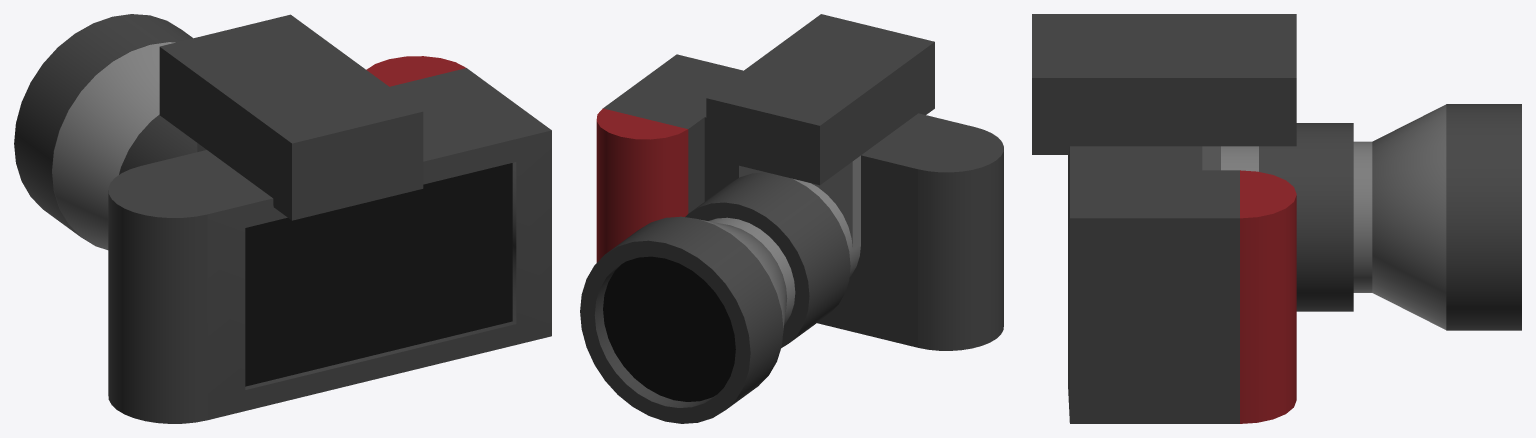
Rendered from DecryptidCamera.fbx.
The picture shows the model from 3 angles, left to right: view 1: azimuth 30°, elevation 25°; view 2: azimuth 150°, elevation 25°; view 3: azimuth 270°, elevation 25°; orthographic projection. The views are drawn at different scales.
Visible parts, largest first — view 1: LowPolyCamera; view 2: LowPolyCamera; view 3: LowPolyCamera.
Boxes of the visible parts, left/top/right/bottom form: LowPolyCamera: left=14, top=14, right=551, bottom=423; LowPolyCamera: left=580, top=14, right=1003, bottom=423; LowPolyCamera: left=1032, top=14, right=1521, bottom=423.
Size of the model in its own units: 2450 by 1600 by 2591.
